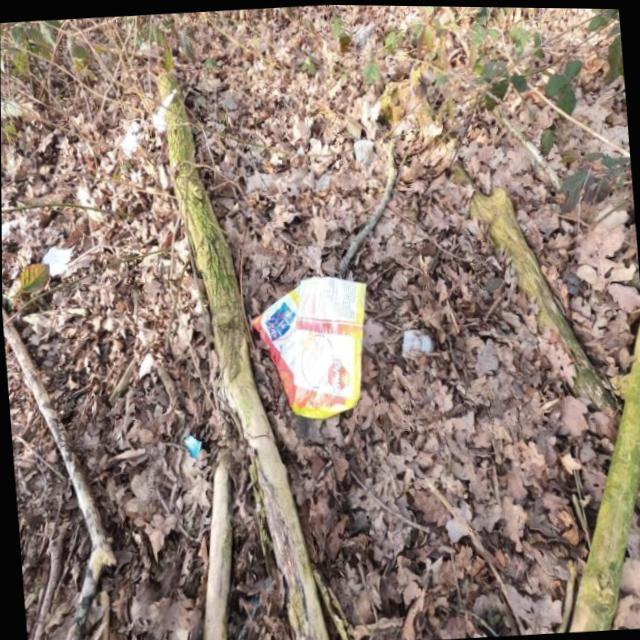Paper: (398, 325, 431, 359), (1, 212, 19, 247)
Plastic: (246, 269, 375, 422), (180, 432, 202, 457)
